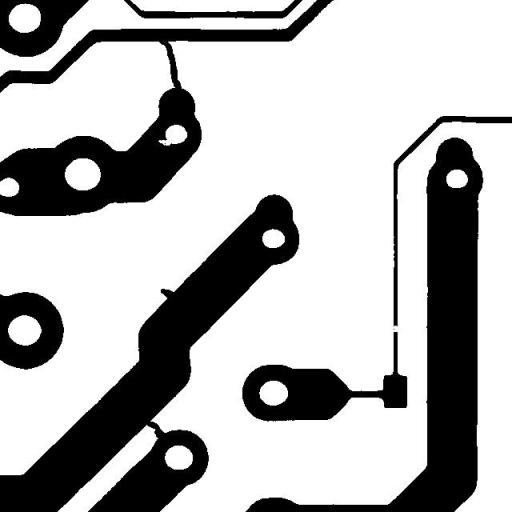mousebite: (150, 132, 184, 153)
open: (384, 318, 406, 339)
short: (151, 31, 189, 100), (139, 412, 174, 446)
spur: (153, 280, 181, 306)
